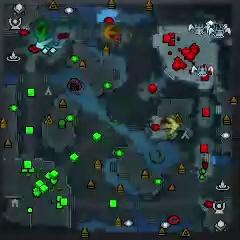x2: (162, 116, 178, 134)
x3: (36, 39, 52, 51)
x4: (33, 26, 50, 40)
x5: (104, 24, 119, 39)
